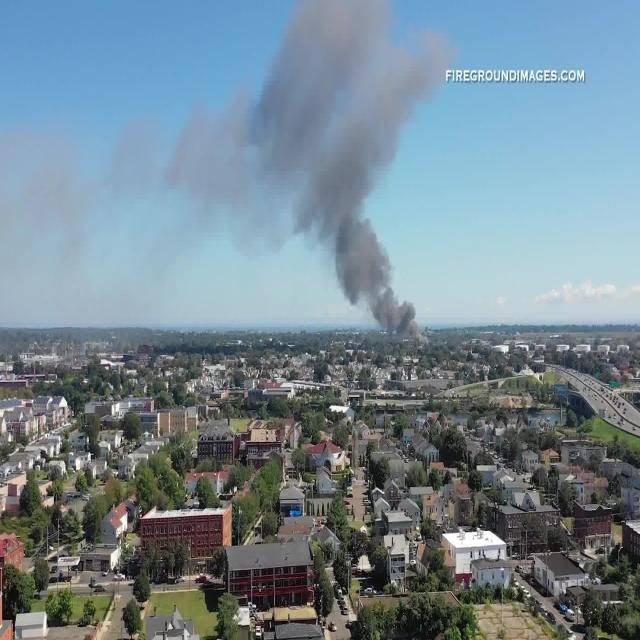smoke: (279, 3, 444, 329), (6, 113, 266, 280)
